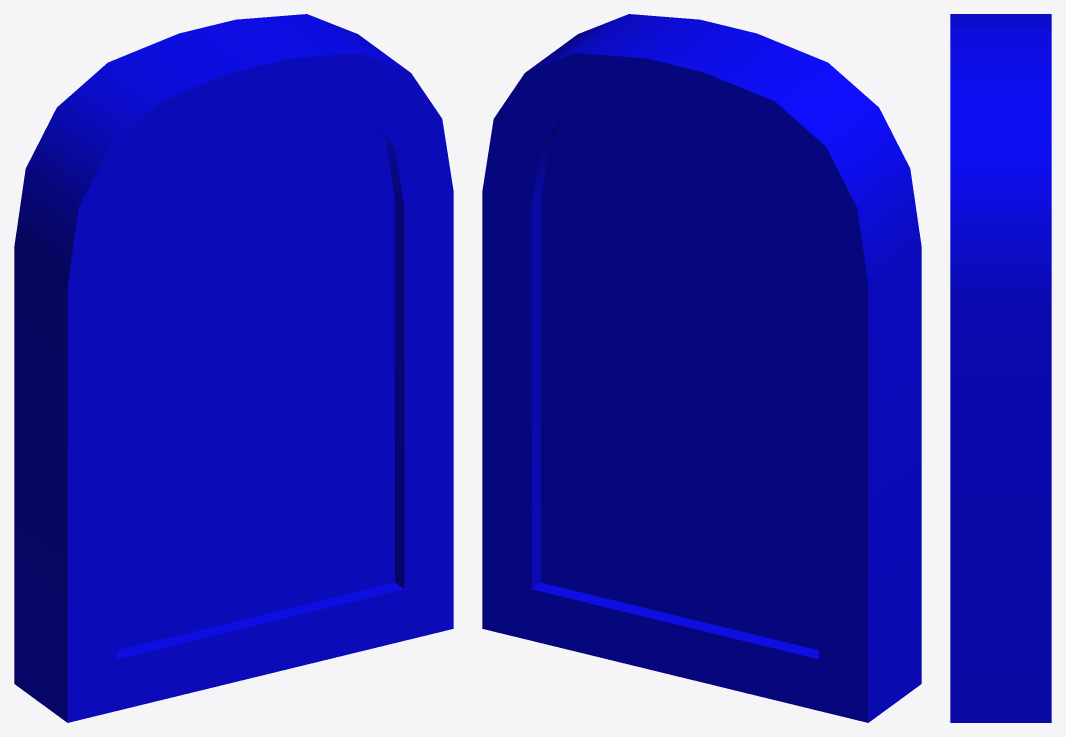
File: tombstone_low.FBX
3 renders of one model, left to right at view 1: azimuth 30°, elevation 25°; view 2: azimuth 150°, elevation 25°; view 3: azimuth 270°, elevation 25°, orthographic. The views are drawn at different scales.
Parts seen in each view (by area): view 1: tombstone_low; view 2: tombstone_low; view 3: tombstone_low.
Boxes of the visible parts, x1=… form: tombstone_low: x1=14, y1=14, x2=453, y2=722; tombstone_low: x1=482, y1=14, x2=921, y2=722; tombstone_low: x1=950, y1=14, x2=1051, y2=722.
Size of the model in its own units: 153 by 231 by 36.53.
